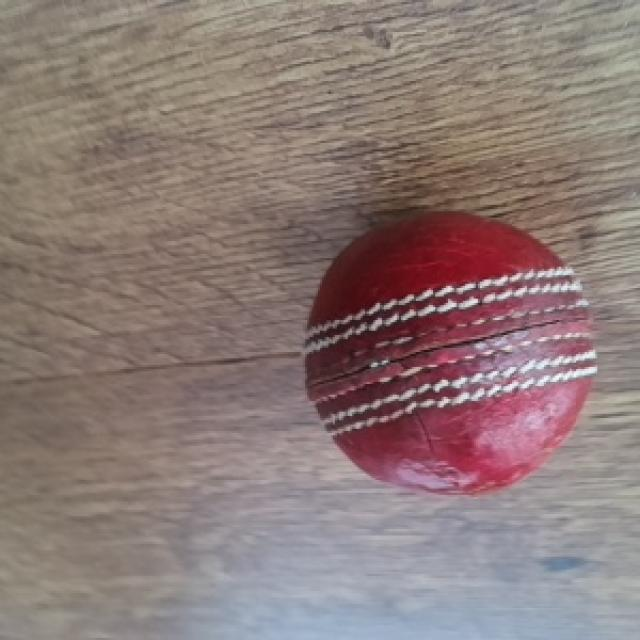ball: (291, 202, 601, 500)
